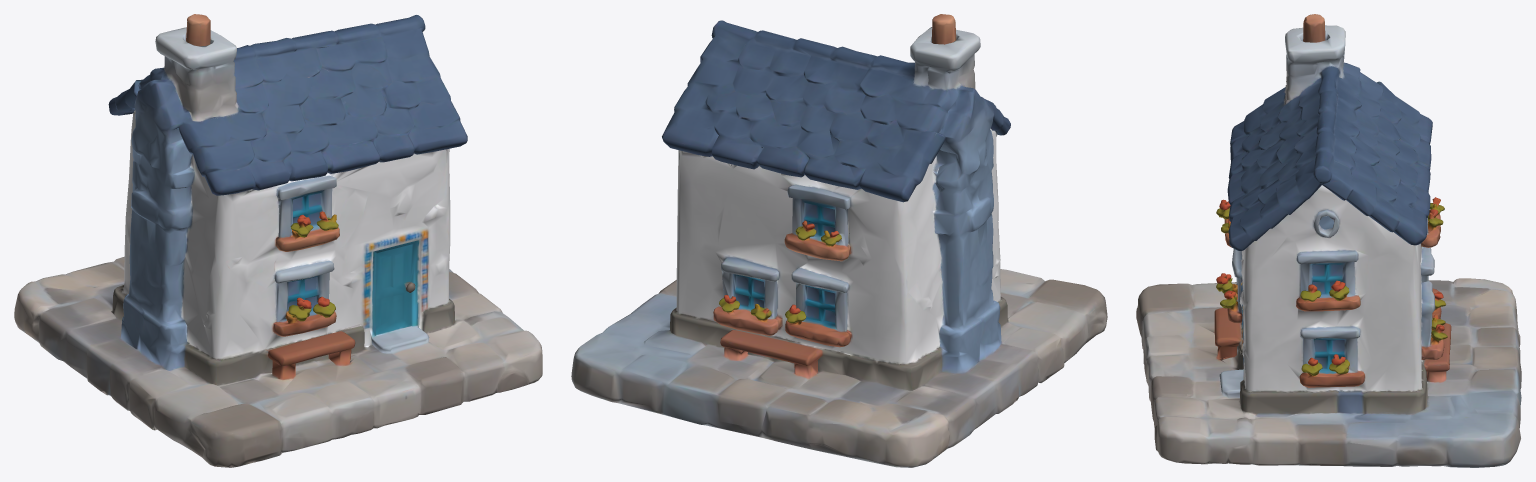
File: maudie-house.glb
3 views of the same model, side by side, from view 1: azimuth 30°, elevation 25°; view 2: azimuth 150°, elevation 25°; view 3: azimuth 270°, elevation 25° (orthographic). The views are drawn at different scales.
Size of the model in its own units: 6.76 by 6.47 by 6.85.
1 material, 1 textured.
